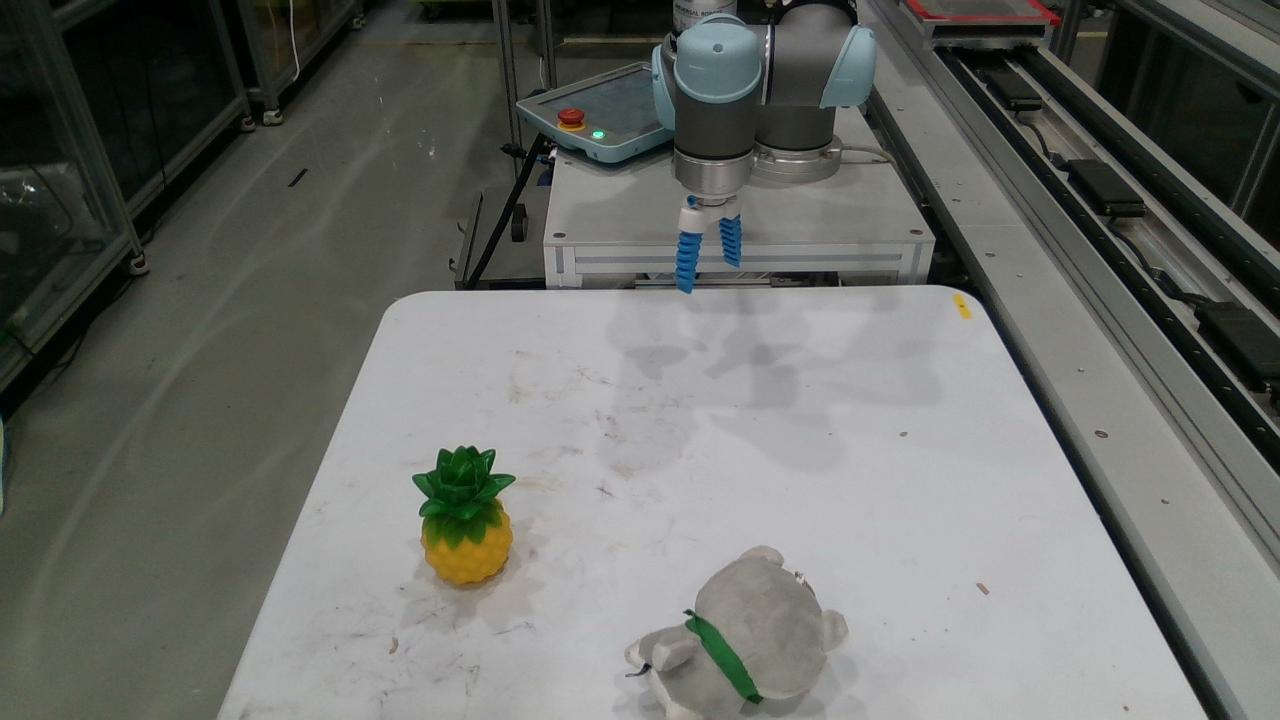UR5: (649, 0, 877, 233)
gripper_left: (675, 232, 701, 294)
gripper_right: (718, 214, 740, 266)
target: (626, 546, 849, 719), (410, 444, 517, 585)
